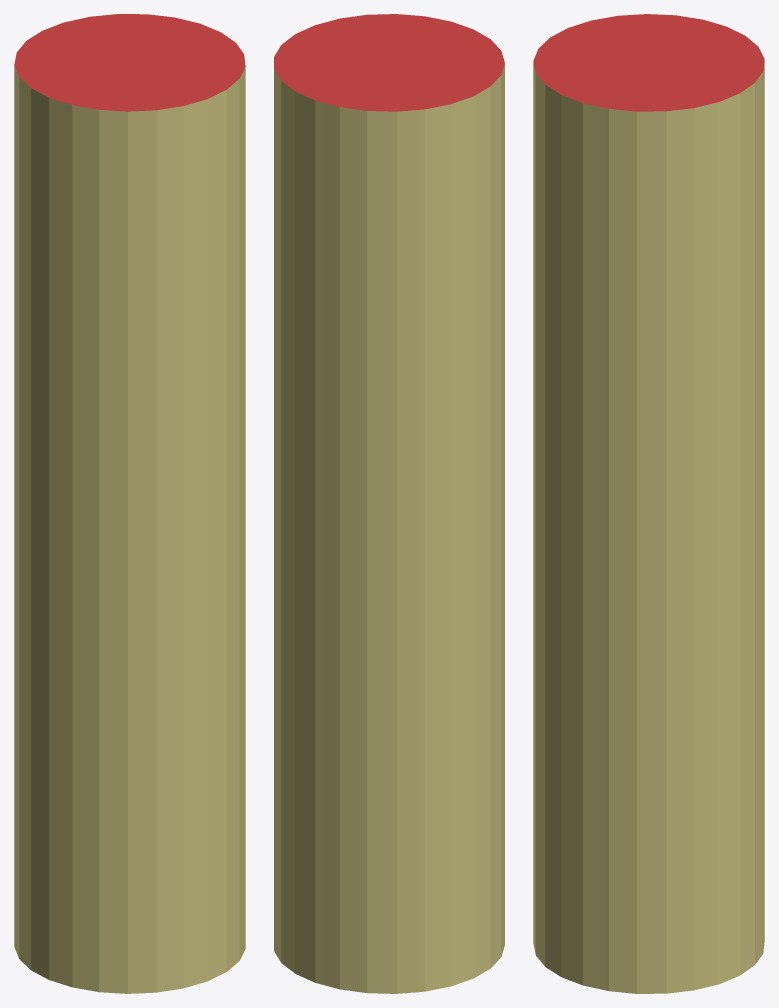
The picture shows the model from 3 angles, left to right: view 1: azimuth 30°, elevation 25°; view 2: azimuth 150°, elevation 25°; view 3: azimuth 270°, elevation 25°; orthographic projection.
Bounding box in the file's own units: 3.12 × 3.12 × 13.14.
